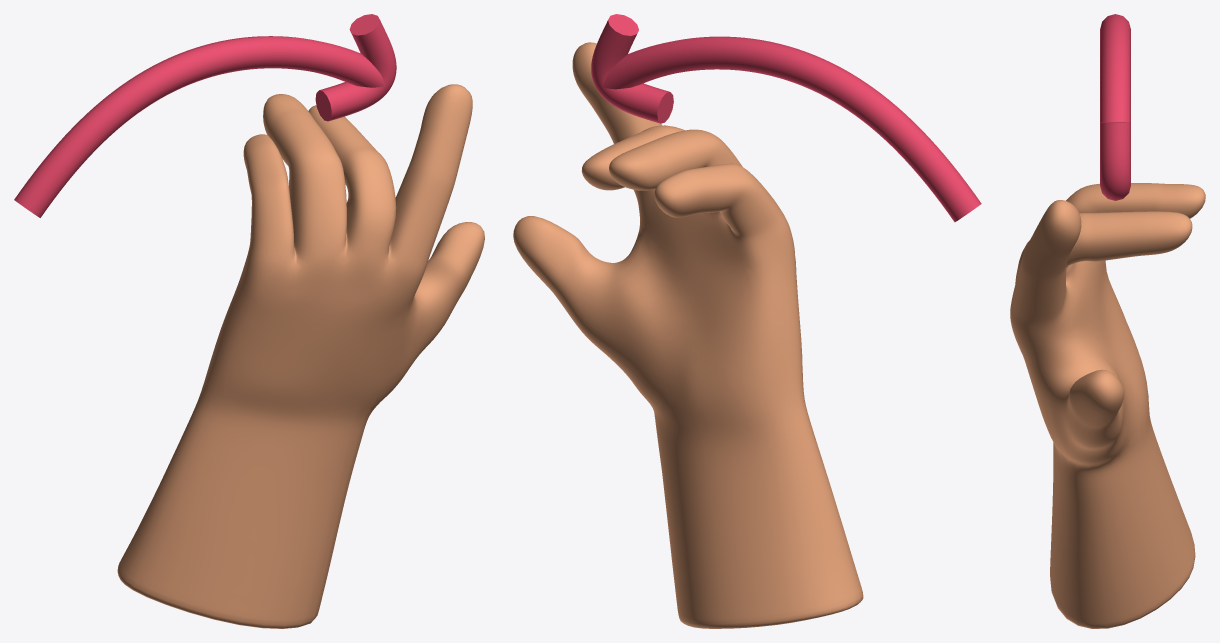
File: swipe-right-3d-animated-icon-670207261491.glb
The picture shows the model from 3 angles, left to right: view 1: azimuth 30°, elevation 25°; view 2: azimuth 150°, elevation 25°; view 3: azimuth 270°, elevation 25°; orthographic projection. The views are drawn at different scales.
Parts seen in each view (by area): view 1: hand, NurbsPath, NurbsPath.001; view 2: hand, NurbsPath, NurbsPath.001; view 3: hand, NurbsPath, NurbsPath.001.
Boxes of the visible parts, x1,y1,x2,y2 form: hand: (117, 84, 484, 628); NurbsPath: (14, 36, 384, 217); NurbsPath.001: (315, 14, 396, 121); hand: (513, 42, 863, 628); NurbsPath: (603, 36, 981, 222); NurbsPath.001: (591, 14, 673, 123); hand: (1010, 183, 1205, 628); NurbsPath: (1100, 14, 1130, 122); NurbsPath.001: (1100, 122, 1130, 200).
Bounding box in the file's own units: 2.29 × 2.75 × 0.883.
